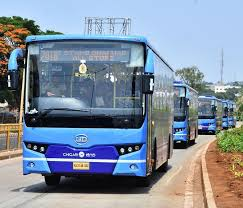Chigari: (15, 34, 174, 177), (174, 79, 199, 148), (200, 94, 217, 135), (219, 99, 229, 133), (230, 100, 237, 130)
